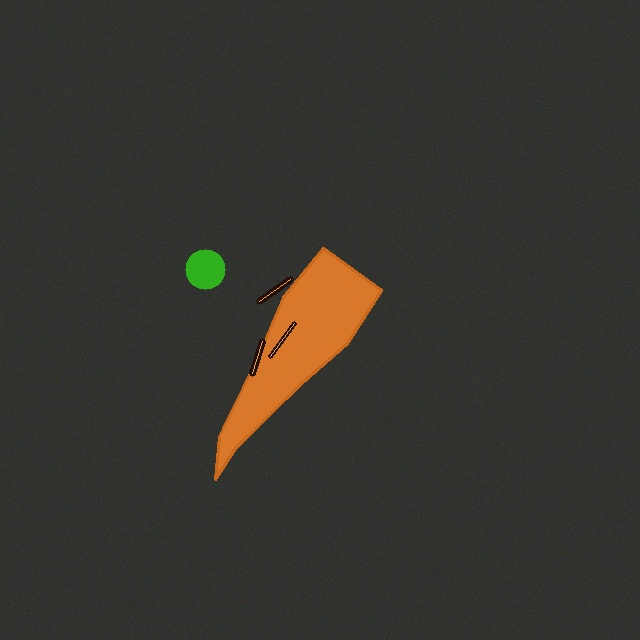Damaged_Carrot: (207, 240, 389, 487)
